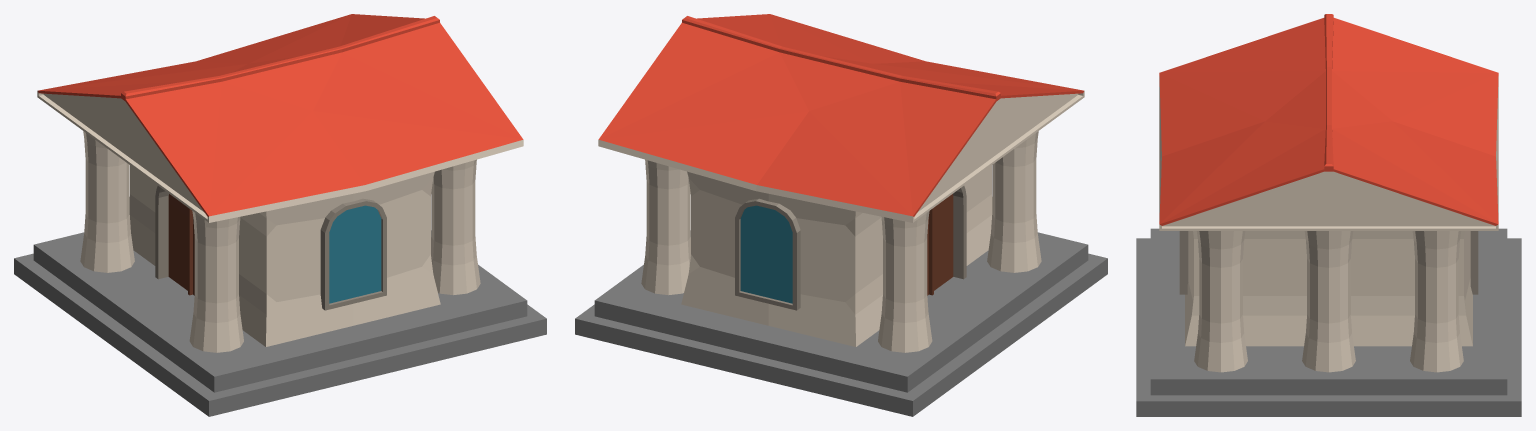
3 renders of one model, left to right at view 1: azimuth 30°, elevation 25°; view 2: azimuth 150°, elevation 25°; view 3: azimuth 270°, elevation 25°, orthographic.
Visible parts, largest first — view 1: ceiling, Cube, Cube.001, Cylinder.001, Cube.004, Cube.003; view 2: ceiling, Cube, Cube.001, Cylinder.001, Cube.004, Cube.003; view 3: ceiling, Cube, Cylinder.001, Cube.001, Cube.004.
Part boxes in pixels (left/top/right/bottom): ceiling: left=37, top=14, right=523, bottom=222; Cube: left=14, top=230, right=546, bottom=416; Cube.001: left=129, top=165, right=440, bottom=346; Cylinder.001: left=80, top=131, right=480, bottom=352; Cube.004: left=320, top=198, right=386, bottom=310; Cube.003: left=155, top=186, right=194, bottom=295; ceiling: left=598, top=14, right=1084, bottom=222; Cube: left=575, top=230, right=1107, bottom=416; Cube.001: left=681, top=165, right=992, bottom=346; Cylinder.001: left=641, top=131, right=1041, bottom=352; Cube.004: left=735, top=198, right=800, bottom=310; Cube.003: left=927, top=186, right=966, bottom=295; ceiling: left=1159, top=14, right=1498, bottom=230; Cube: left=1136, top=228, right=1521, bottom=416; Cylinder.001: left=1194, top=231, right=1463, bottom=372; Cube.001: left=1185, top=231, right=1472, bottom=346; Cube.004: left=1179, top=231, right=1478, bottom=294.
Size of the model in its own units: 100 by 70.61 by 100.
